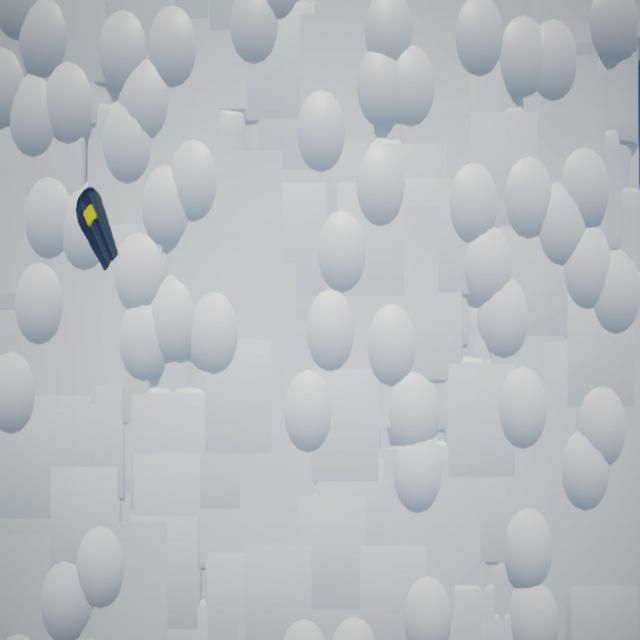handle_folk: (77, 188, 120, 272)
